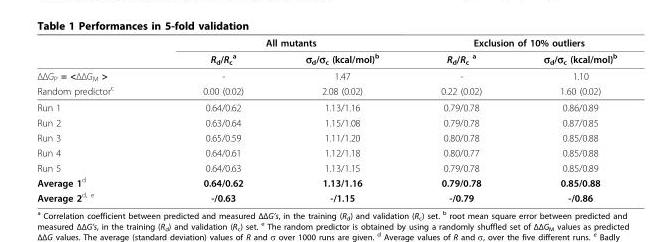table: (36, 36, 616, 203)
table column: (273, 36, 409, 203), (36, 36, 157, 203), (157, 36, 273, 203), (511, 36, 616, 203), (409, 36, 511, 203)
table column header: (36, 36, 616, 67)
table row: (36, 49, 616, 67), (36, 82, 616, 98), (36, 98, 616, 114), (36, 144, 616, 160), (36, 67, 616, 82), (36, 114, 616, 129), (36, 129, 616, 144), (36, 174, 616, 189), (36, 160, 616, 174), (36, 189, 616, 203), (36, 36, 616, 49)
table spanning cell: (157, 36, 409, 49), (409, 36, 616, 49)
